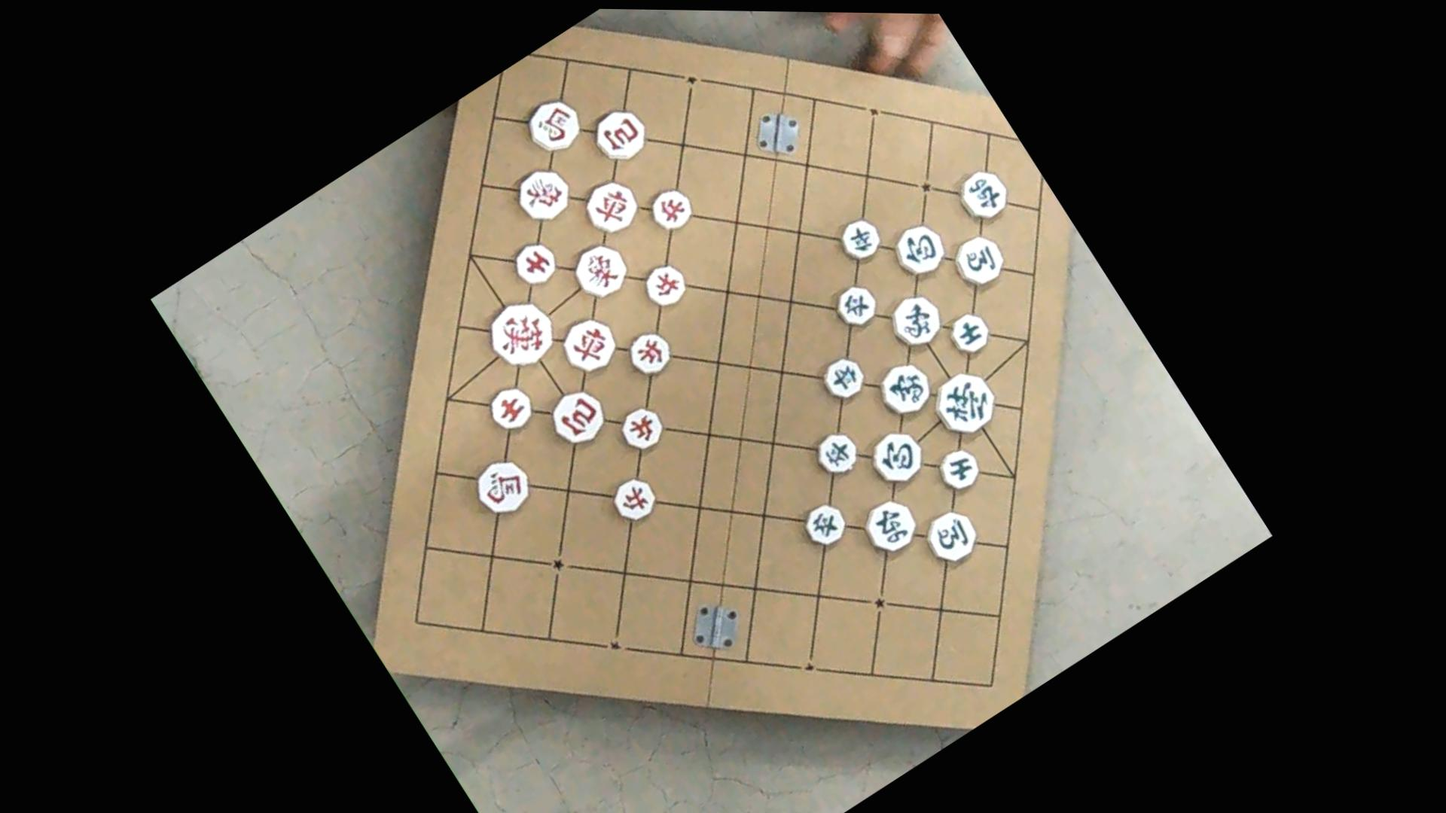cha_green: (856, 493, 924, 560), (951, 163, 1015, 227)
cha_red: (553, 310, 624, 379), (575, 173, 645, 242)
jol_green: (807, 425, 865, 482), (816, 352, 871, 407), (797, 498, 853, 552), (833, 212, 887, 266), (829, 279, 883, 332)
jol_red: (620, 324, 678, 382), (612, 400, 670, 456), (606, 471, 662, 527), (636, 257, 692, 312), (643, 181, 699, 236)
ma_green: (917, 502, 986, 571), (947, 228, 1011, 293)
ma_red: (465, 451, 540, 524), (519, 90, 589, 160)
po_green: (862, 424, 930, 490), (886, 217, 952, 282)
po_red: (541, 382, 612, 452), (584, 100, 655, 170)
sa_green: (932, 443, 986, 495), (942, 307, 994, 358)
sa_red: (505, 235, 565, 293), (482, 380, 540, 437)
sang_green: (870, 355, 939, 422), (882, 288, 950, 354)
sang_red: (566, 236, 635, 305), (507, 160, 577, 227)
wang_green: (922, 362, 1005, 445)
wang_red: (476, 290, 566, 379)
